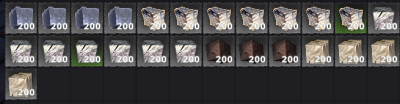granite stone: (5, 2, 37, 34), (71, 2, 103, 34), (104, 3, 136, 34), (38, 3, 70, 33)
limestone stone: (269, 1, 300, 34), (203, 2, 234, 34), (236, 2, 267, 34), (301, 2, 333, 33), (334, 2, 366, 33), (137, 3, 168, 34), (170, 3, 200, 34)
marble stone: (38, 35, 69, 67), (71, 35, 103, 66), (104, 35, 136, 66), (170, 35, 202, 66), (137, 36, 168, 67), (4, 36, 36, 66), (368, 3, 398, 34)
slate stone: (269, 35, 301, 68), (235, 35, 267, 67), (203, 34, 233, 67)
travertine stone: (301, 35, 334, 67), (5, 68, 37, 101), (335, 35, 366, 67), (368, 35, 399, 67)
